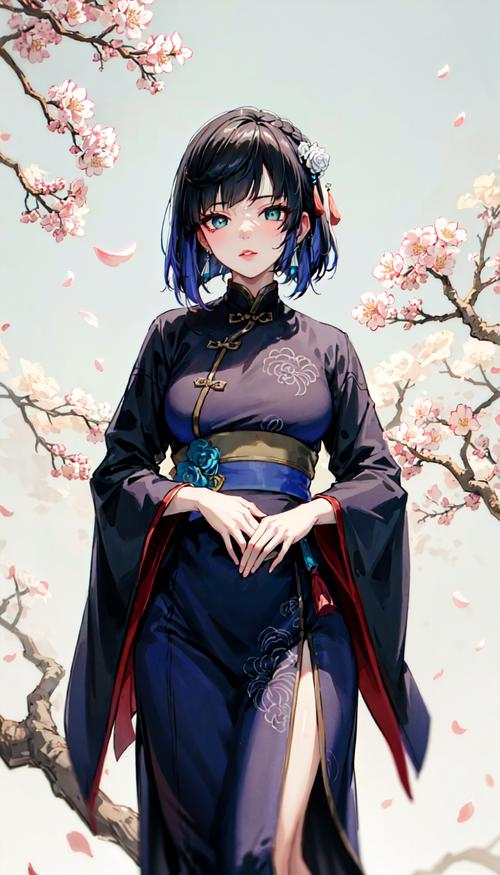夜兰: (99, 109, 422, 875)
